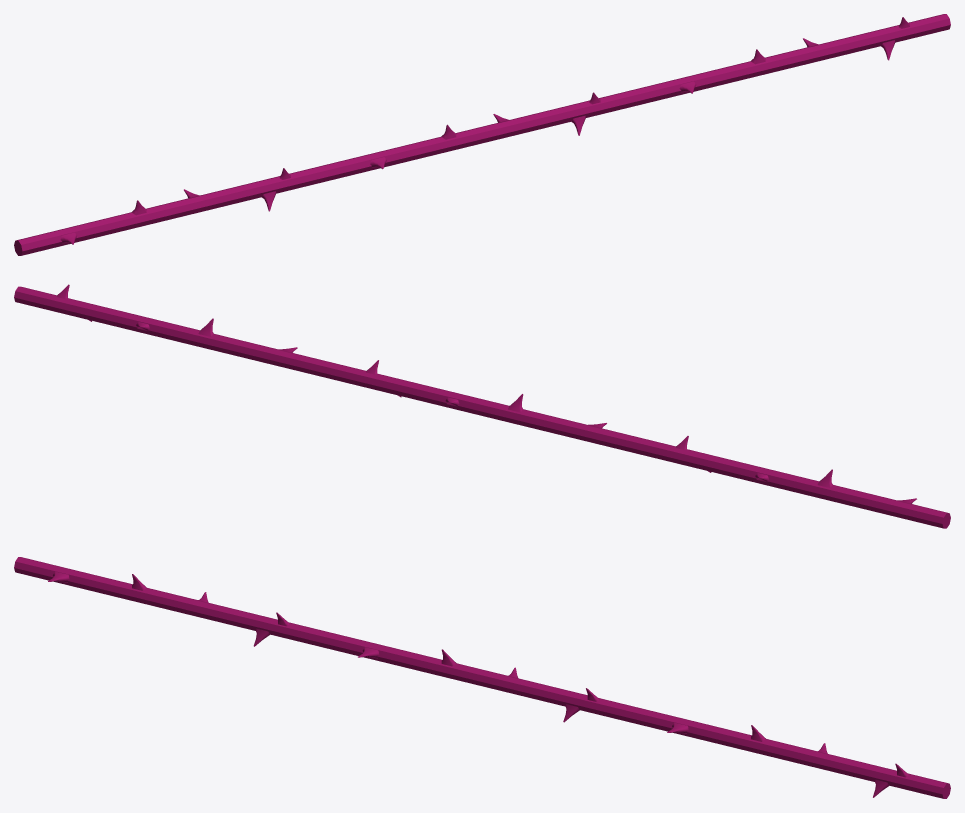
The model's file is Brambles.fbx.
3 views of the same model, one above another, from view 1: azimuth 30°, elevation 25°; view 2: azimuth 150°, elevation 25°; view 3: azimuth 330°, elevation 25° (orthographic).
Visible parts, largest first — view 1: Brambles; view 2: Brambles; view 3: Brambles.
Part boxes in pixels (box(x1,y1,x2,y2)): Brambles: box(14, 14, 950, 255); Brambles: box(14, 284, 950, 528); Brambles: box(14, 557, 950, 798).
Size of the model in its own units: 61.53 by 2.43 by 2.71.
